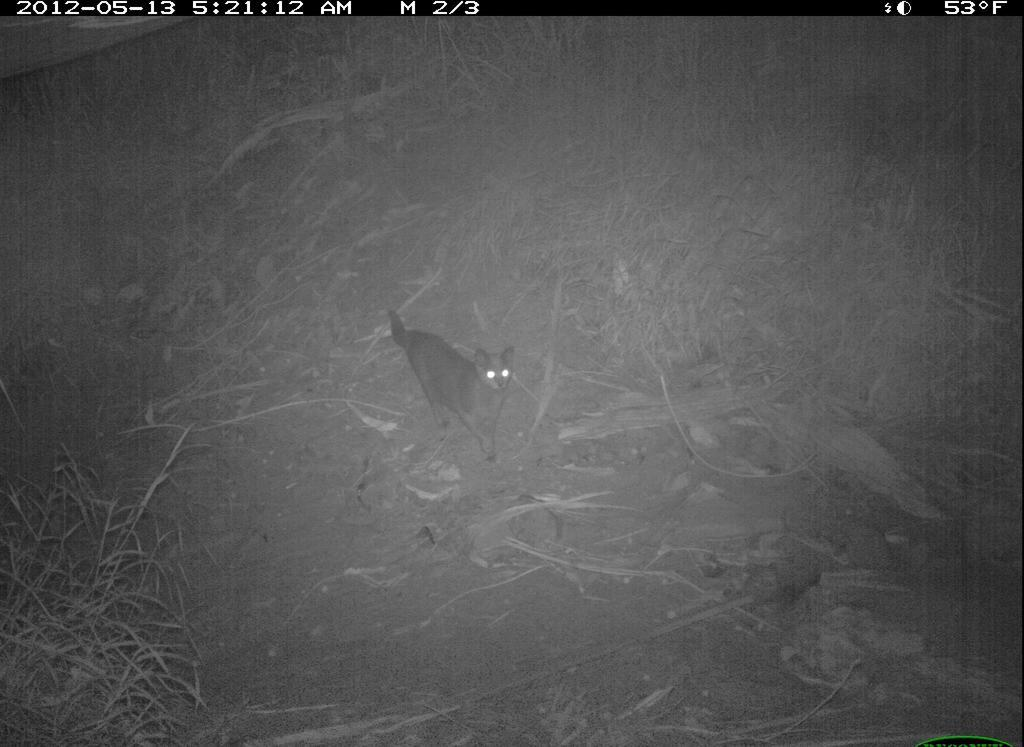cat: (360, 296, 530, 474)
